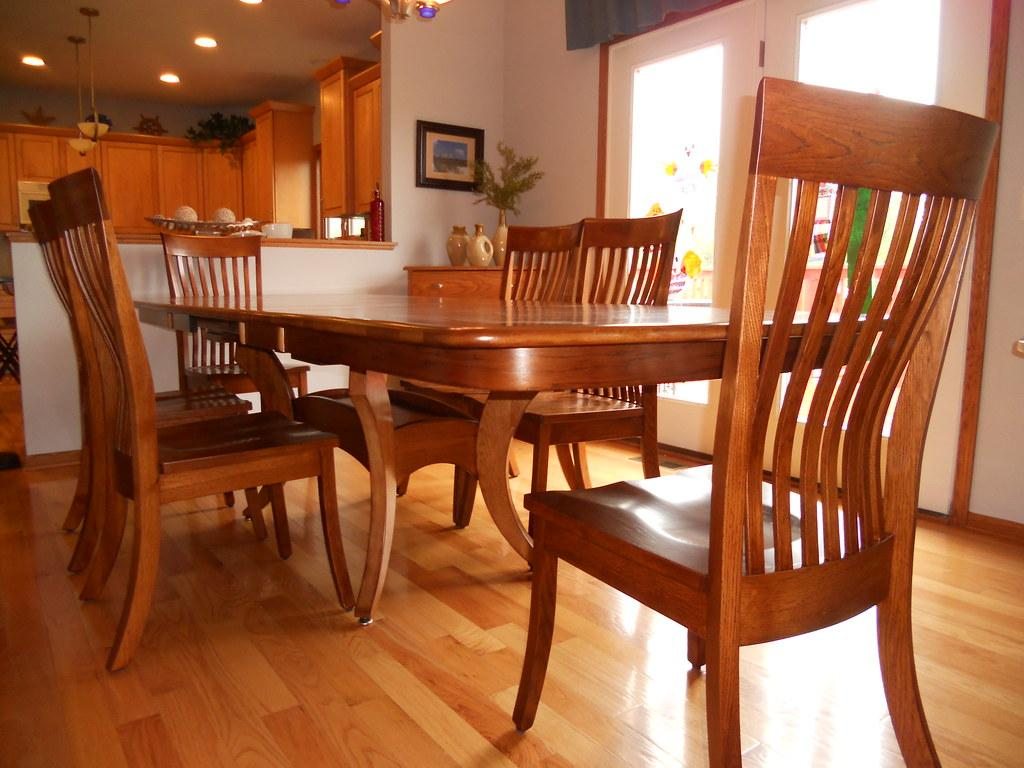table: (129, 290, 907, 628)
